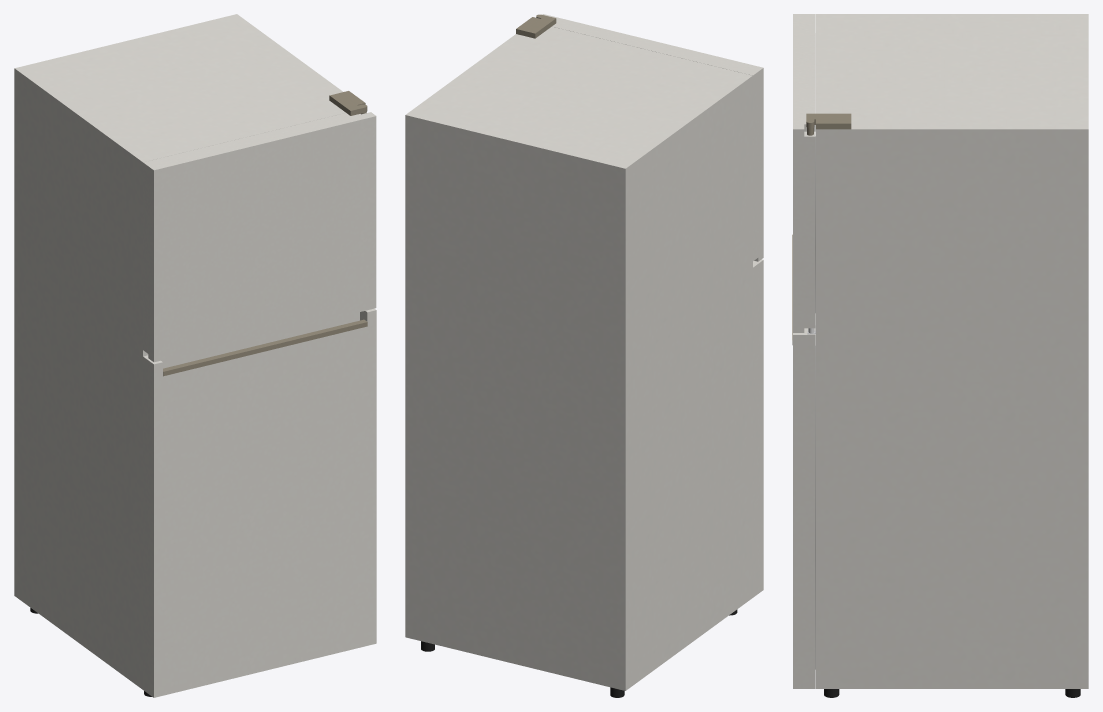
The model's file is kitchen_refrigerator_01.glb.
The picture shows the model from 3 angles, left to right: view 1: azimuth 30°, elevation 25°; view 2: azimuth 150°, elevation 25°; view 3: azimuth 270°, elevation 25°; orthographic projection. The views are drawn at different scales.
Parts seen in each view (by area): view 1: Refrigerator02, Refrigerator02_Door02, Refrigerator02_Door01; view 2: Refrigerator02, Refrigerator02_Door01, Refrigerator02_Door02; view 3: Refrigerator02, Refrigerator02_Door02, Refrigerator02_Door01.
Boxes of the visible parts, box(x1,y1,x2,y2) form: Refrigerator02: box(14, 14, 367, 696); Refrigerator02_Door02: box(143, 308, 376, 697); Refrigerator02_Door01: box(143, 112, 376, 362); Refrigerator02: box(405, 14, 752, 697); Refrigerator02_Door01: box(542, 14, 763, 261); Refrigerator02_Door02: box(753, 259, 763, 597); Refrigerator02: box(806, 14, 1088, 697); Refrigerator02_Door02: box(792, 234, 815, 688); Refrigerator02_Door01: box(793, 14, 815, 332).
Size of the model in its own units: 0.7355 by 1.72 by 0.7996.
Materials: 1 (1 with a texture image).
